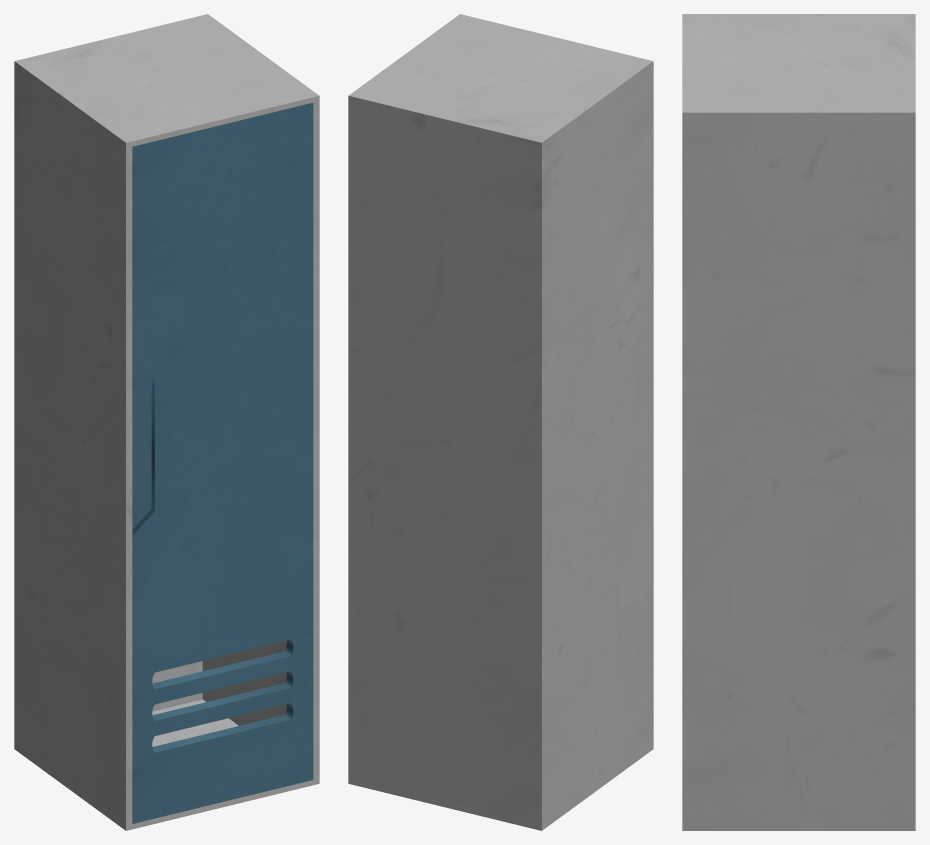
The model's file is Locker_2.fbx.
3 views of the same model, side by side, from view 1: azimuth 30°, elevation 25°; view 2: azimuth 150°, elevation 25°; view 3: azimuth 270°, elevation 25° (orthographic). The views are drawn at different scales.
Parts seen in each view (by area): view 1: Locker_2.003, Light_2; view 2: Light_2; view 3: Light_2.
Boxes of the visible parts, x1,y1,x2,y2 form: Locker_2.003: (132, 102, 313, 823); Light_2: (14, 14, 319, 830); Light_2: (348, 14, 653, 830); Light_2: (682, 14, 915, 830).
Size of the model in its own units: 0.5 by 1.7 by 0.5.
